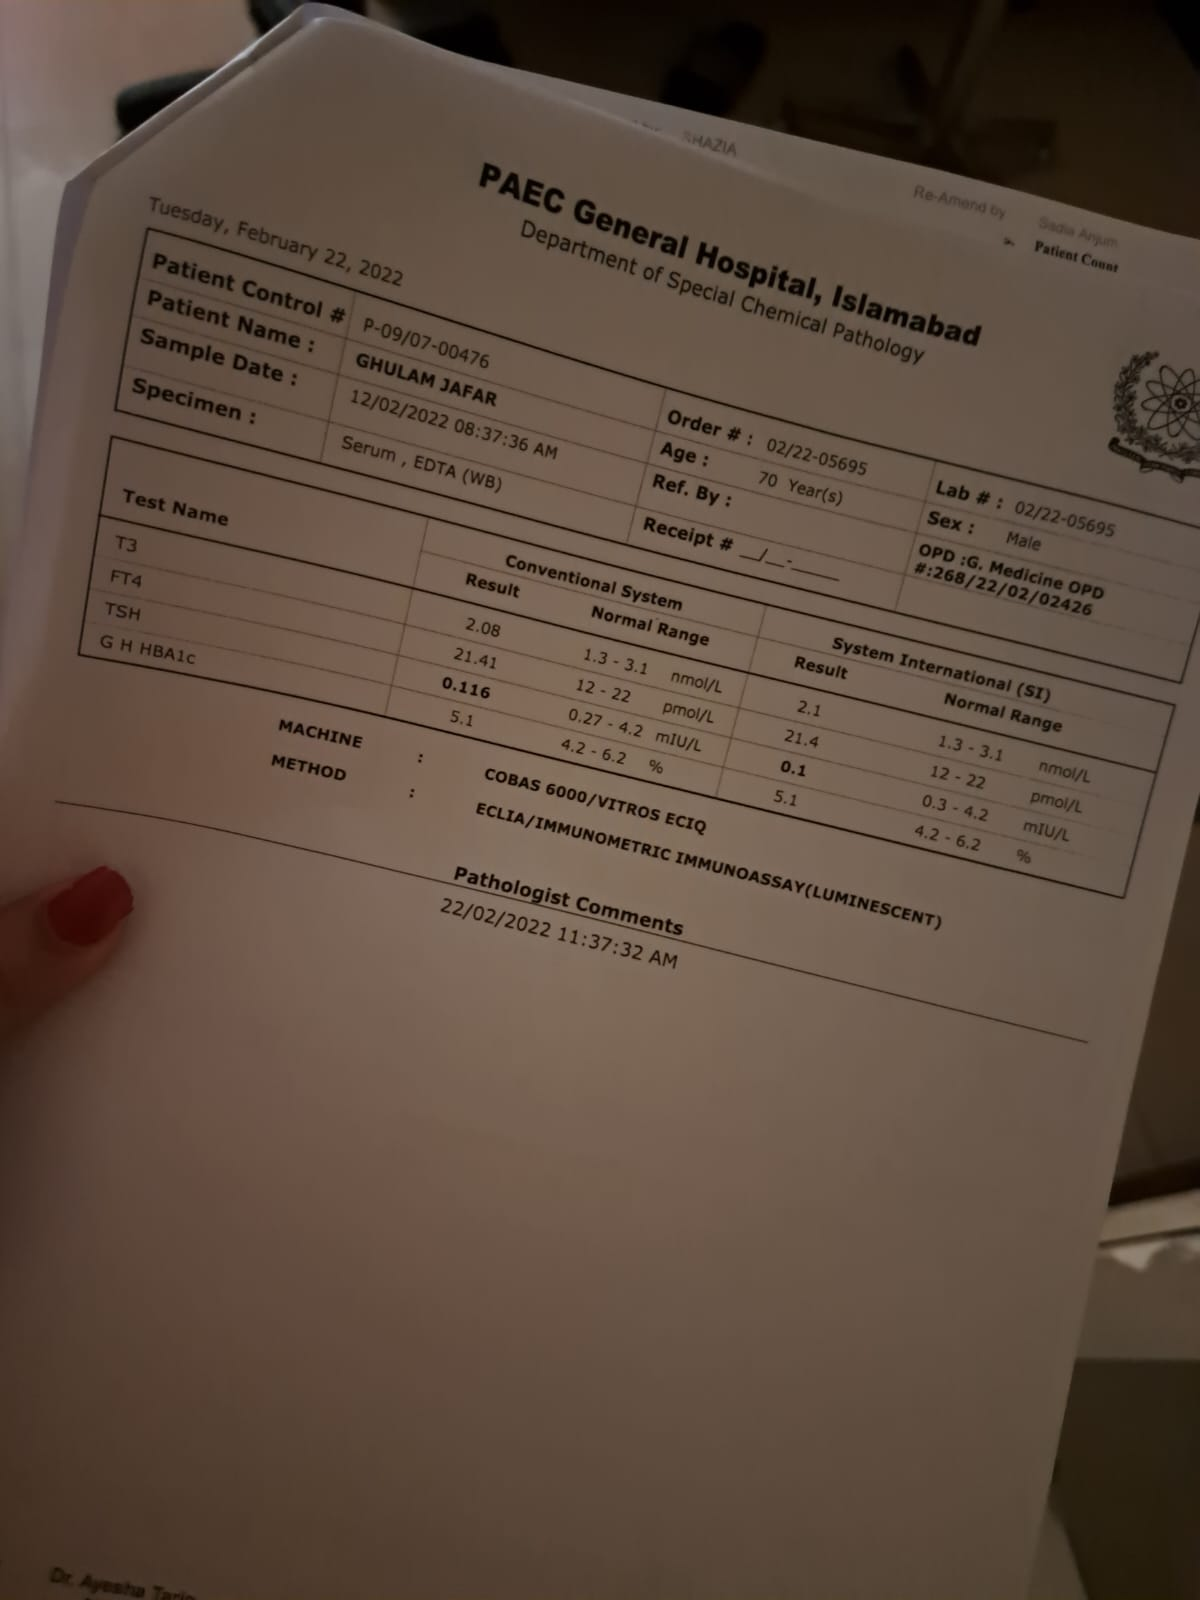report: (73, 433, 1174, 906)
